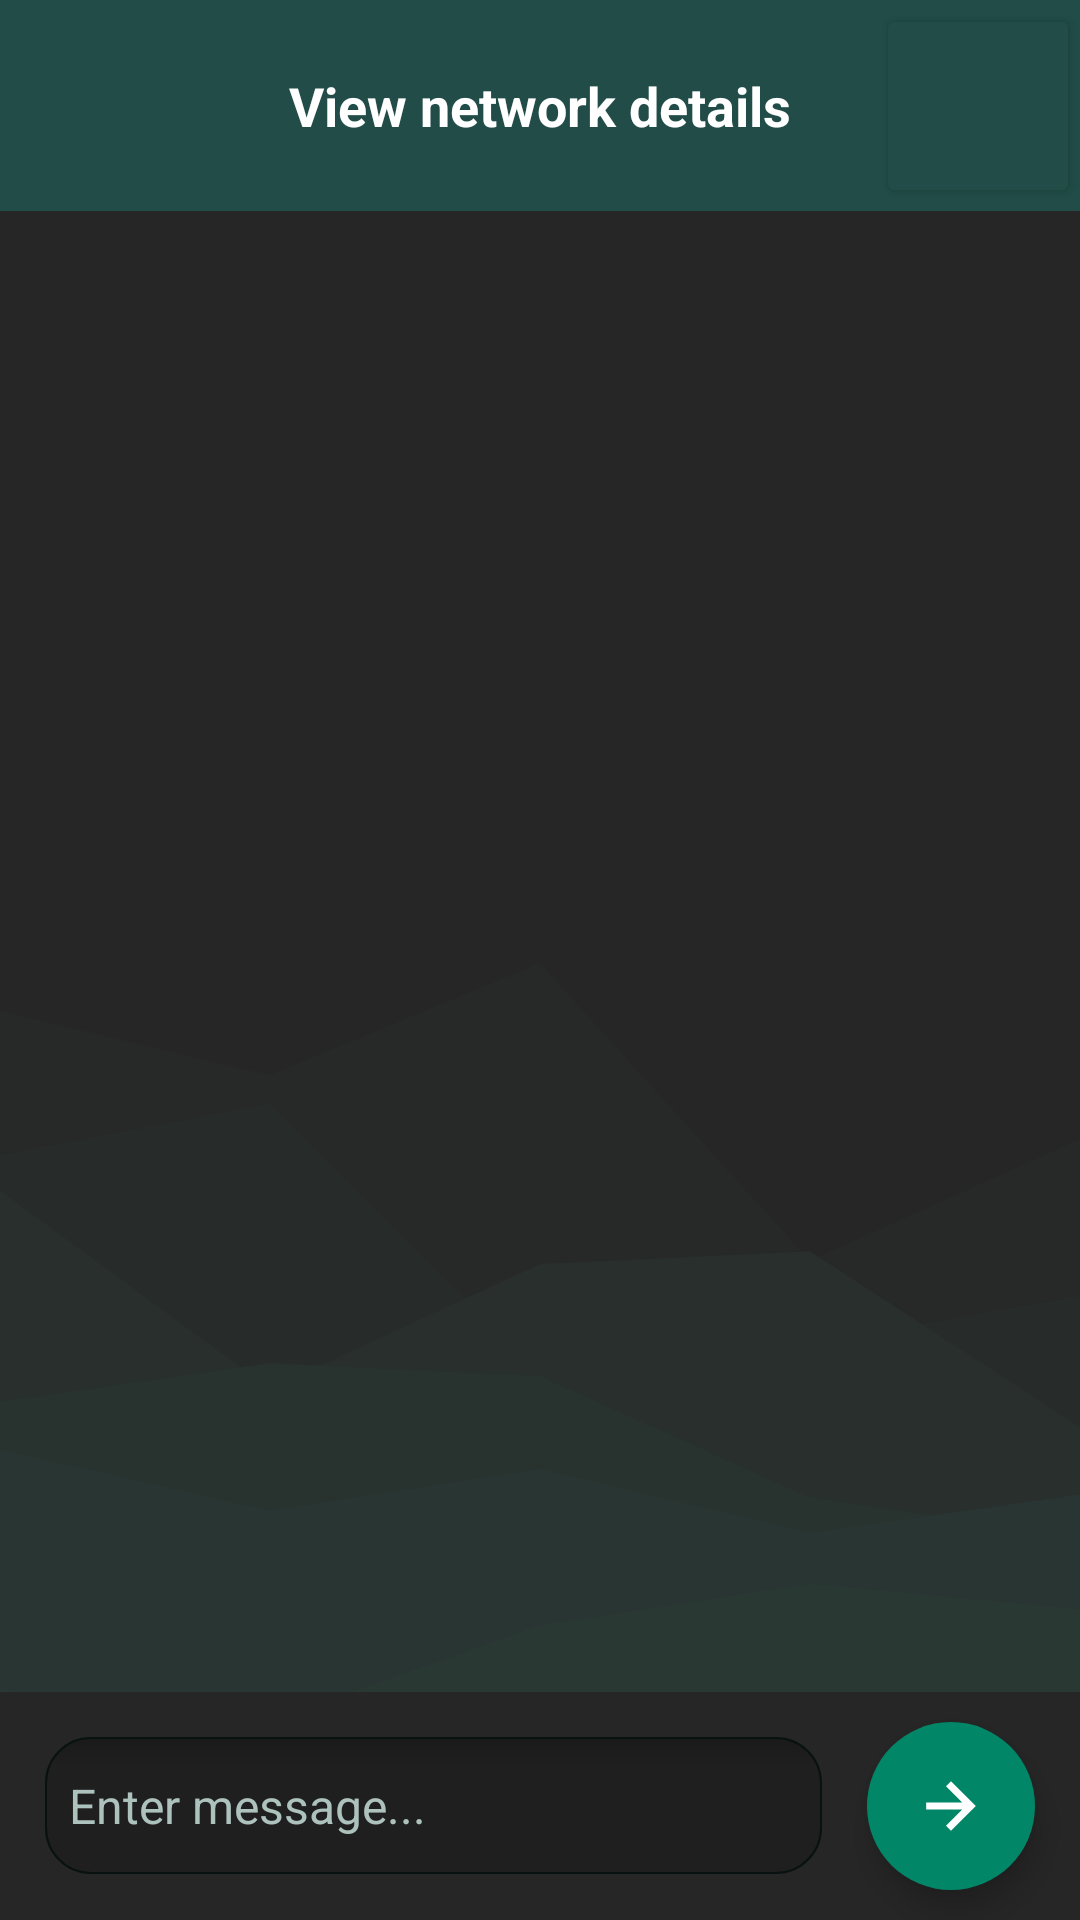

Screen size 1080w x 1920h. Icon name, then its box in pixels as BBox(x1, y1, x2, y2):
arrow forward: BBox(867, 1722, 1035, 1890)
